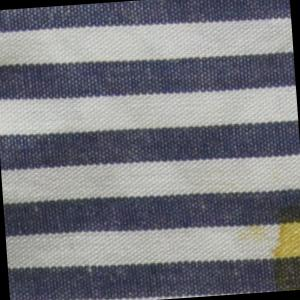Oil Stain: (232, 194, 300, 295)
Stain: (1, 11, 7, 25)
